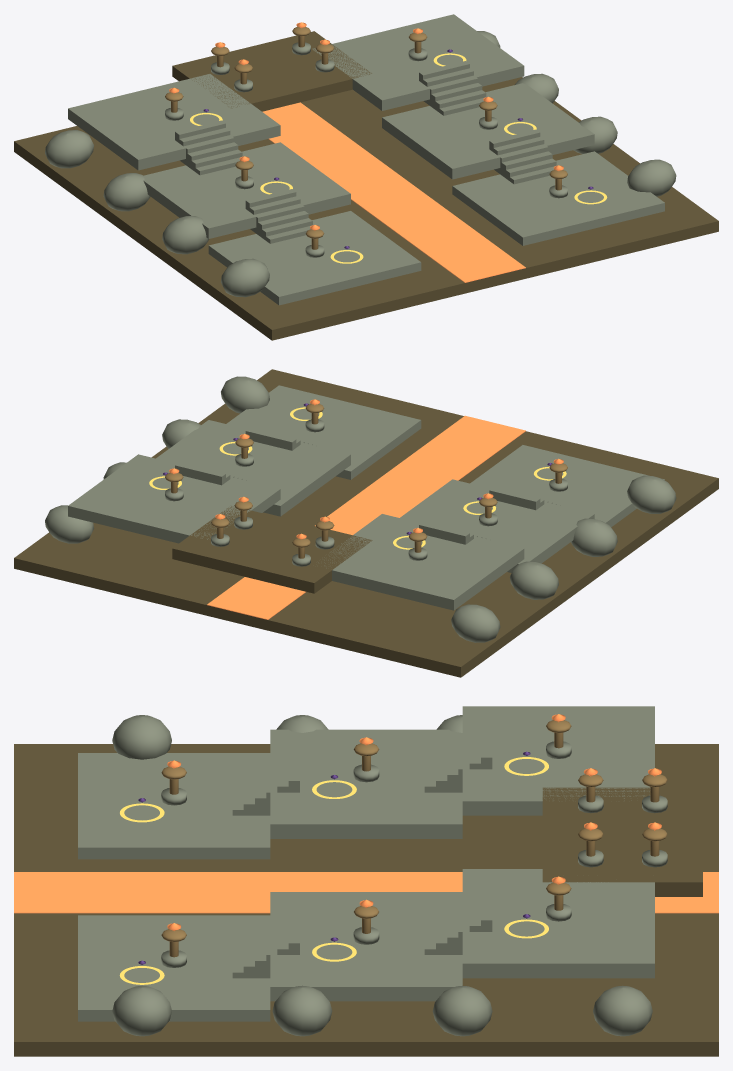
The model's file is ember_corrupted.glb.
The picture shows the model from 3 angles, top to bottom: view 1: azimuth 30°, elevation 25°; view 2: azimuth 150°, elevation 25°; view 3: azimuth 270°, elevation 25°; orthographic projection. The views are drawn at different scales.
Visible parts, largest first — view 1: terrace (×6), ground, lava_channel, rock (×7), nest; view 2: terrace (×6), ground, lava_channel, rock (×7), nest, step (×4); view 3: terrace (×6), ground, lava_channel, nest, rock (×6), step (×4).
Boxes of the visible parts, x1,y1,x2,y2 form: terrace (×6): (68,14,664,305); ground: (14,77,718,340); lava_channel: (262,102,525,282); rock (×7): (45,73,676,297); nest: (172,31,371,111); terrace (×6): (68,385,664,610); ground: (14,369,718,677); lava_channel: (207,415,525,619); rock (×7): (45,376,676,642); nest: (172,506,372,593); step (×4): (175,428,540,544); terrace (×6): (78,706,654,1021); ground: (14,744,718,1056); lava_channel: (14,872,718,913); nest: (542,787,702,896); rock (×6): (112,715,652,1036); step (×4): (255,744,458,978).
Size of the model in its own units: 22.18 by 3.88 by 22.
